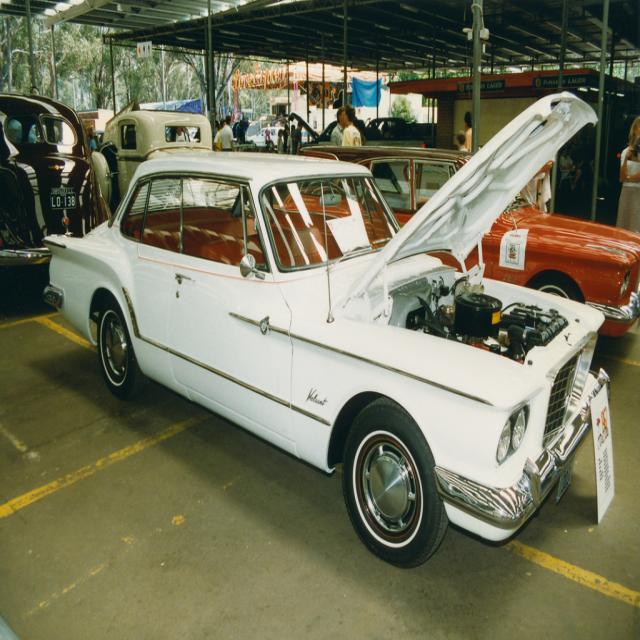car: (42, 89, 607, 563)
